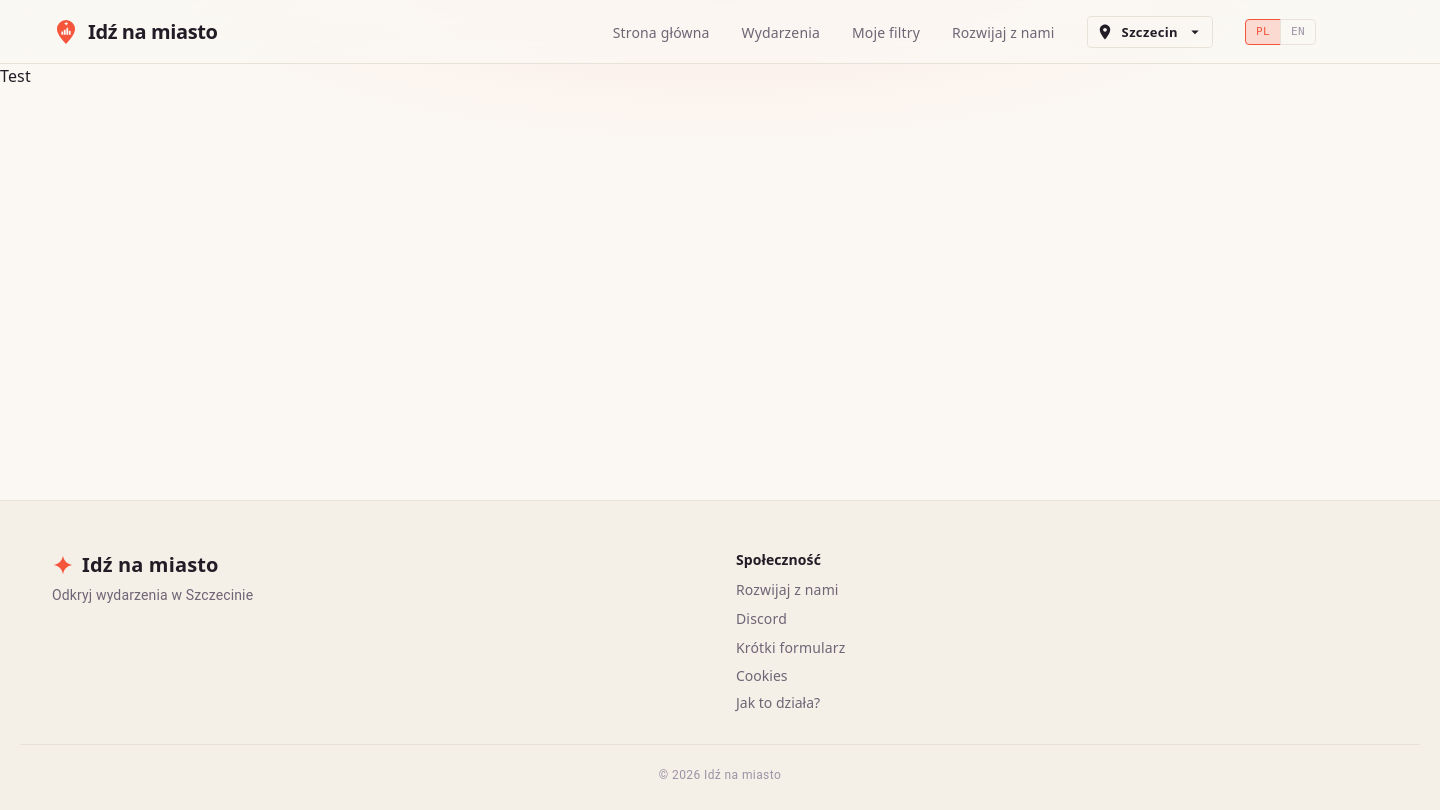
it: AppLayout › lets the footer reopen the cookie banner after a choice was made
Click the button "Cookies" at (762, 676), box [736,666,788,685]
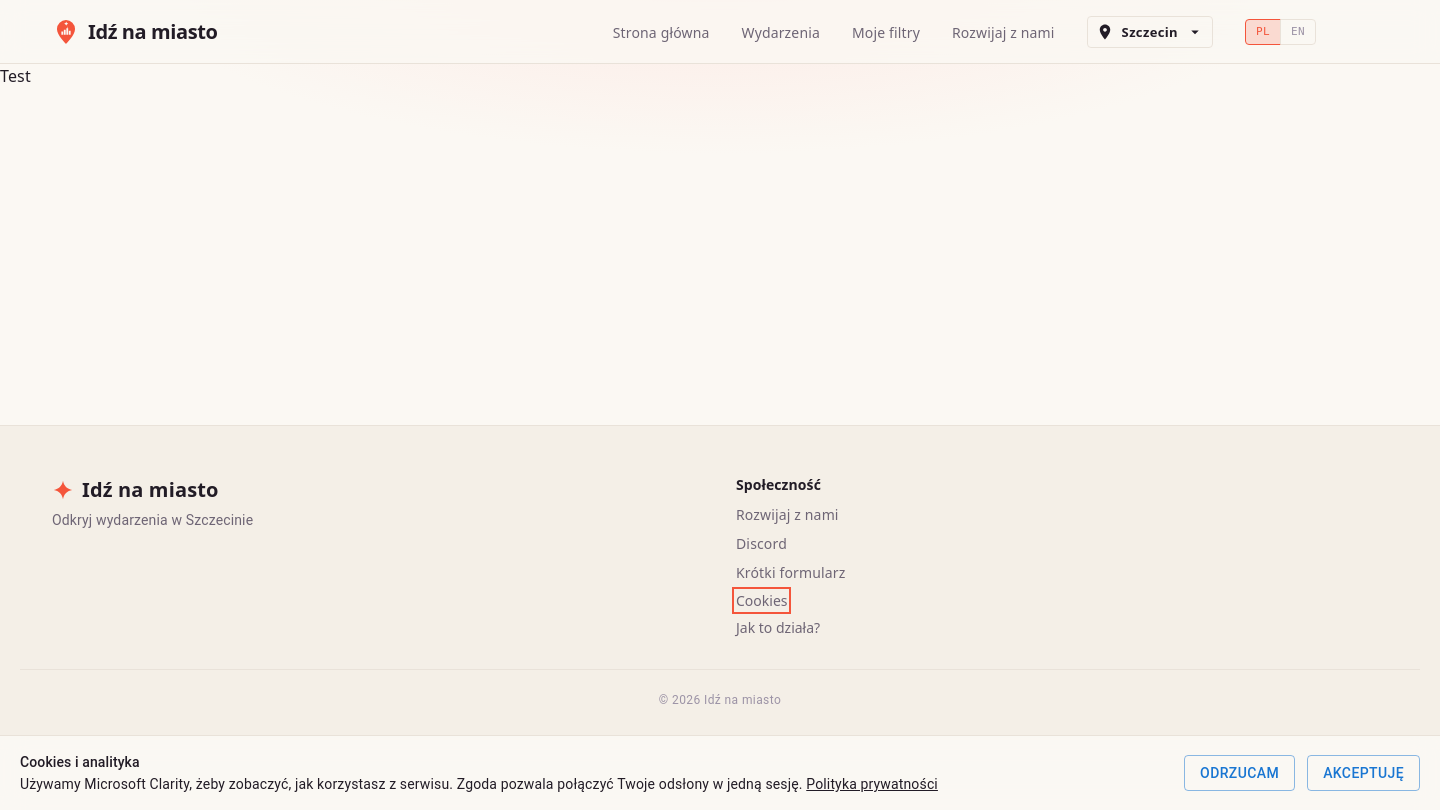
Now the element named "Zgoda na cookies" is shown, box [0,735,1439,809]
